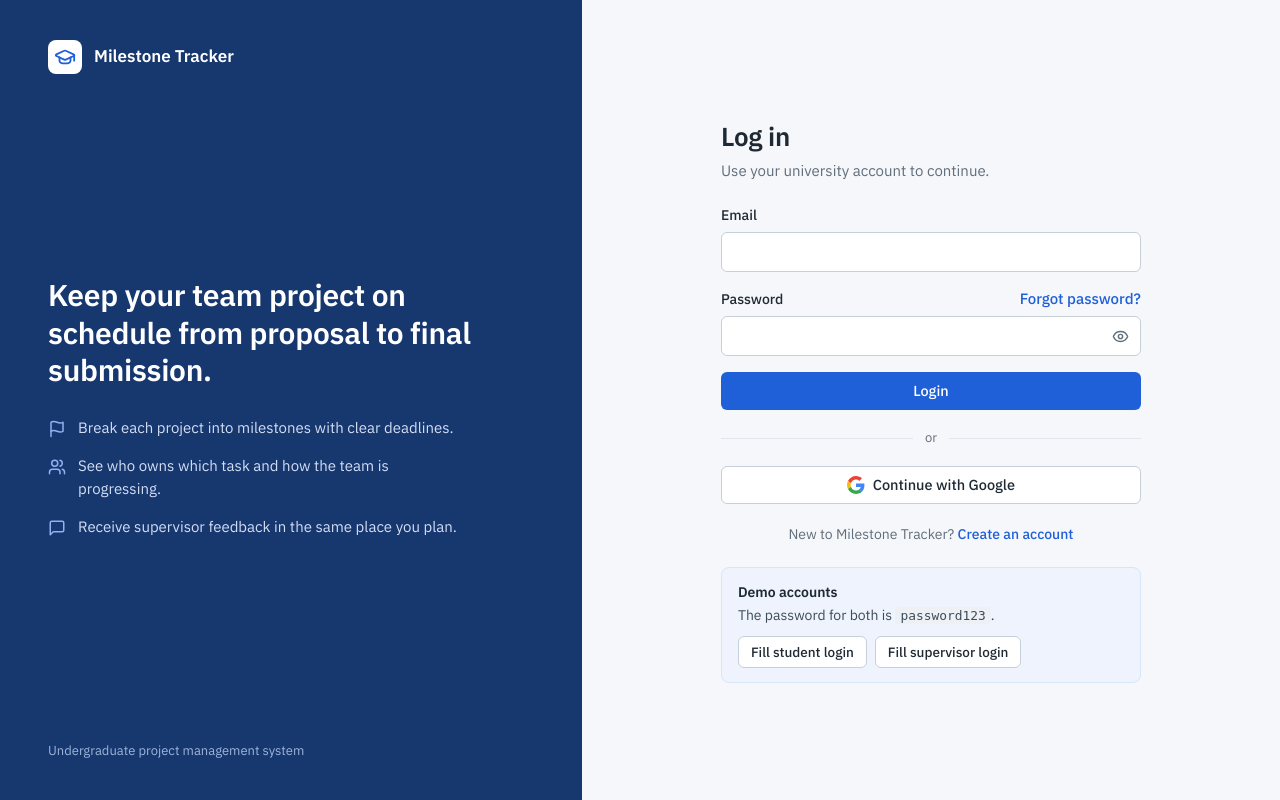
Test: authentication › shows an error for wrong credentials
This screenshot has width=1280, height=800.
In the field labelled "Email": (931, 252) left=721, top=232, right=1141, bottom=272, type "amina@student.edu"
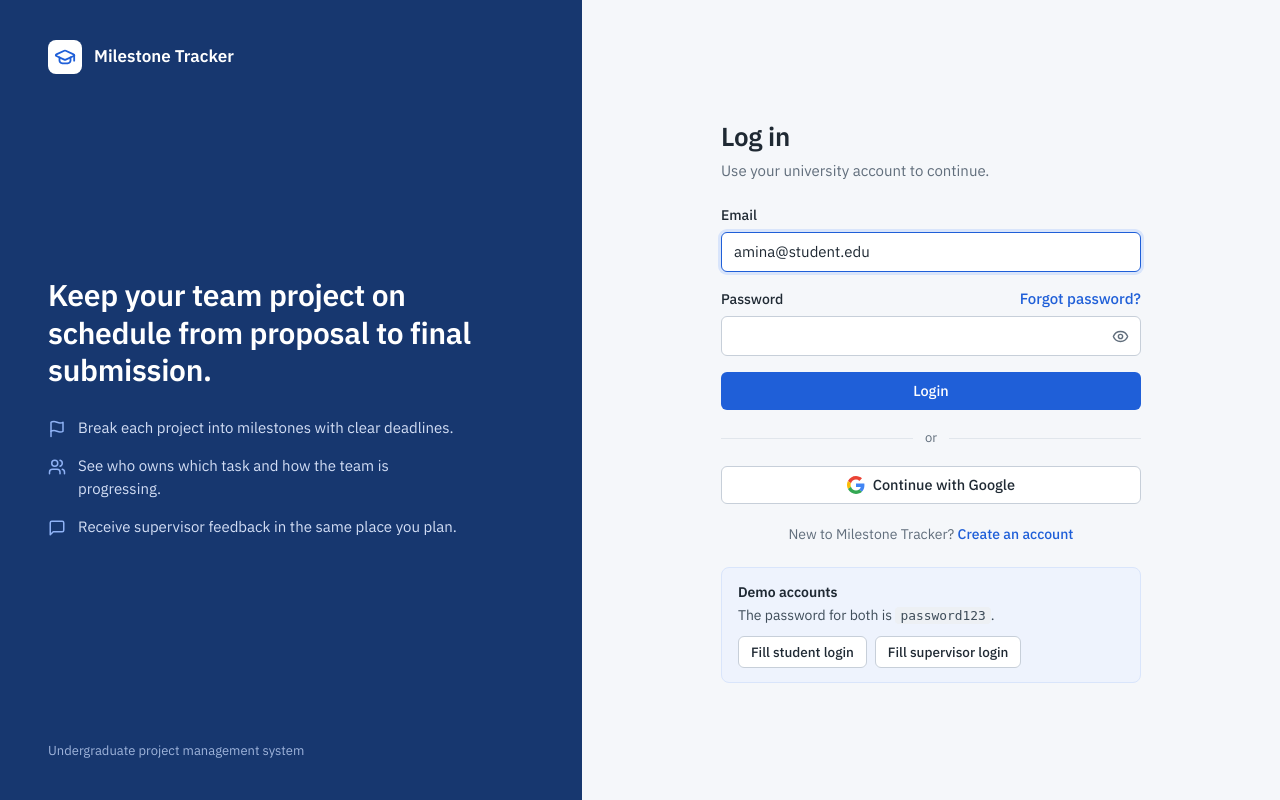
In the password field labelled "Password": (931, 336) left=721, top=316, right=1141, bottom=356, type "wrong-password"
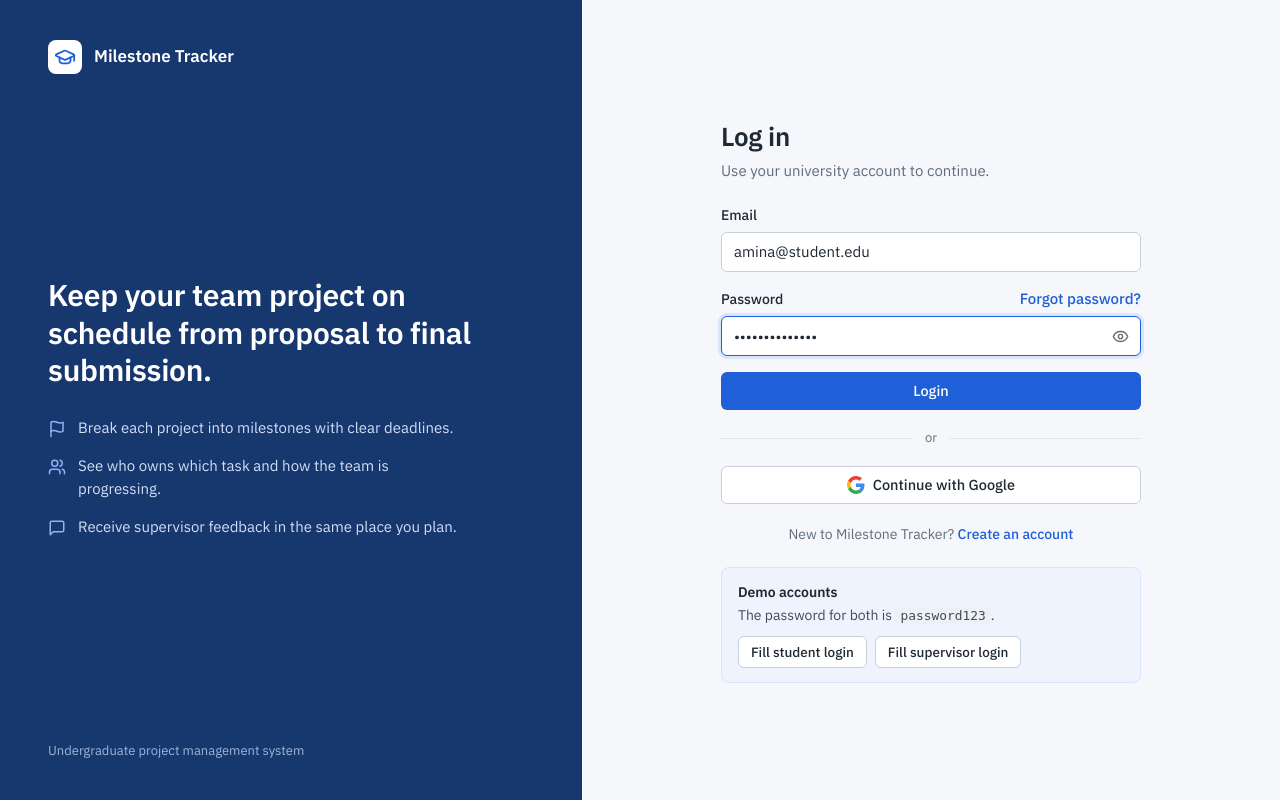
Click the button "Login": (931, 391) left=721, top=372, right=1141, bottom=410
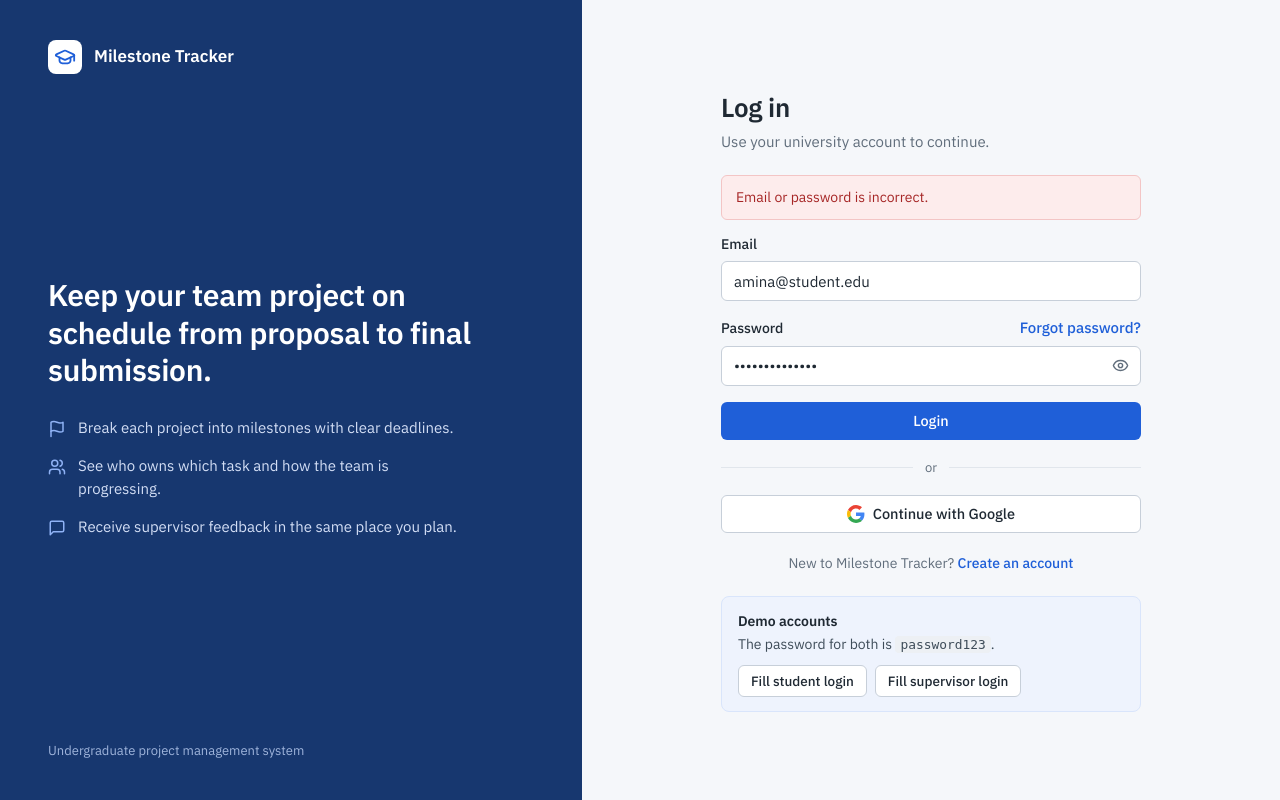
expect the message reads "Email or password is incorrect.": met, box left=736, top=188, right=928, bottom=206
